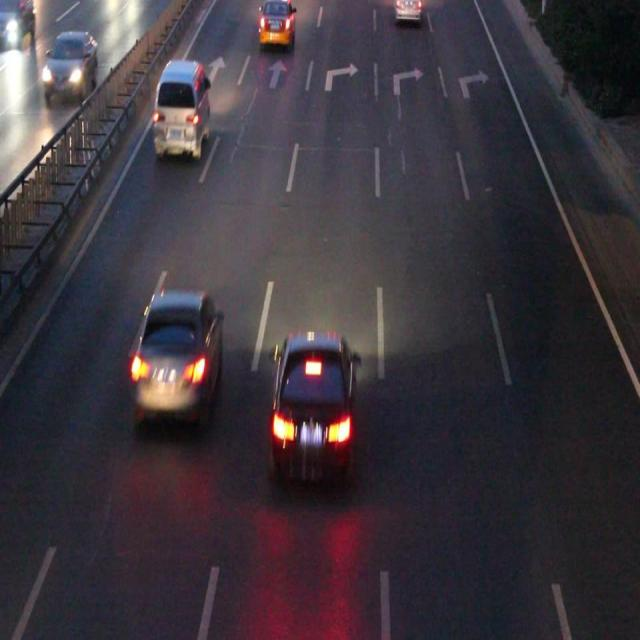car: (274, 330, 353, 477), (135, 292, 222, 420), (258, 1, 294, 45), (394, 1, 420, 20)
truck: (156, 59, 209, 158)
